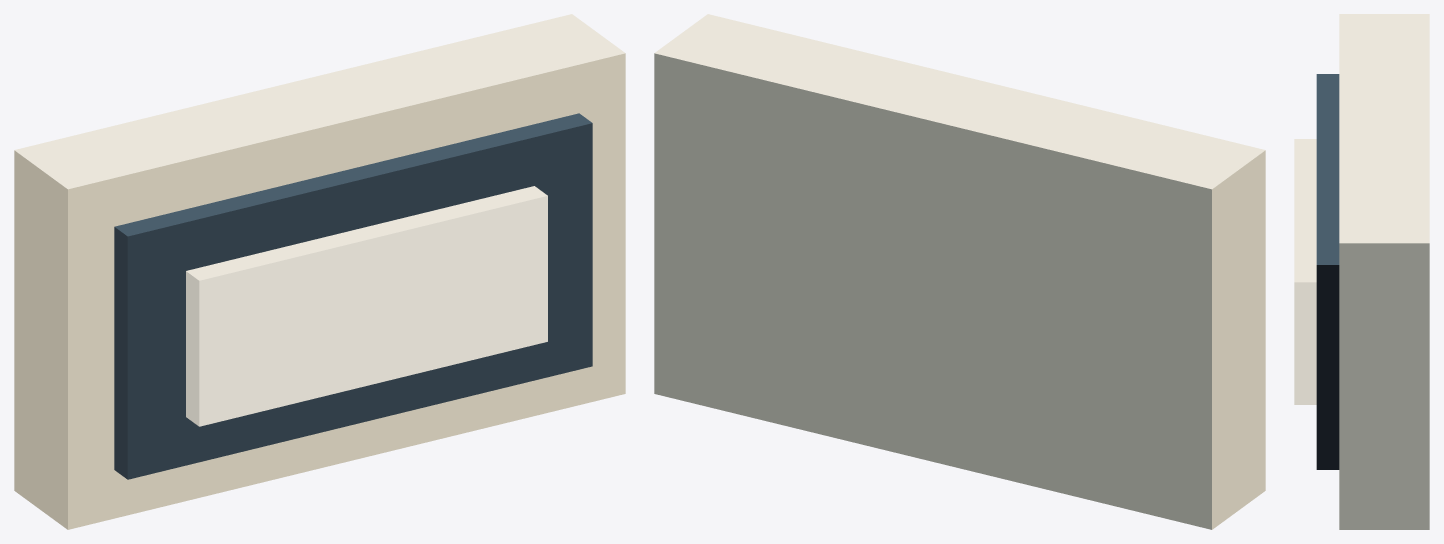
The model's file is Signal_Lamp.gltf.
3 views of the same model, side by side, from view 1: azimuth 30°, elevation 25°; view 2: azimuth 150°, elevation 25°; view 3: azimuth 270°, elevation 25° (orthographic). The views are drawn at different scales.
Visible parts, largest first — view 1: Signal_Lamp_baked; view 2: Signal_Lamp_baked; view 3: Signal_Lamp_baked.
Part boxes in pixels (x1,y1,x2,y2): Signal_Lamp_baked: [14, 14, 625, 529]; Signal_Lamp_baked: [654, 14, 1265, 529]; Signal_Lamp_baked: [1294, 14, 1429, 529].
Size of the model in its own units: 0.48 by 0.28 by 0.12.
